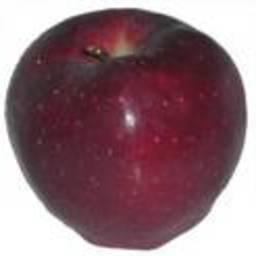apple: (2, 7, 247, 251)
